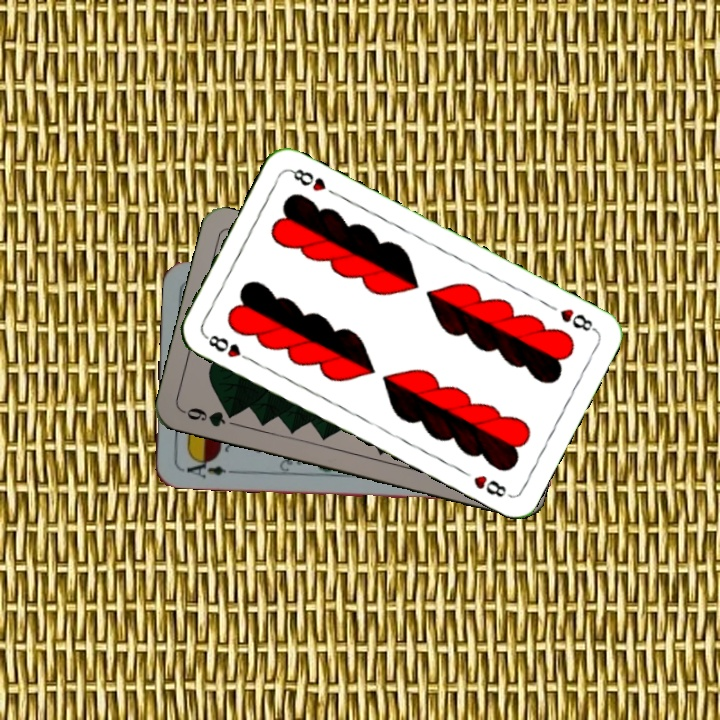EA: (177, 453, 229, 481)
G9: (179, 403, 240, 430)
H8: (200, 331, 256, 365), (556, 304, 599, 334)
